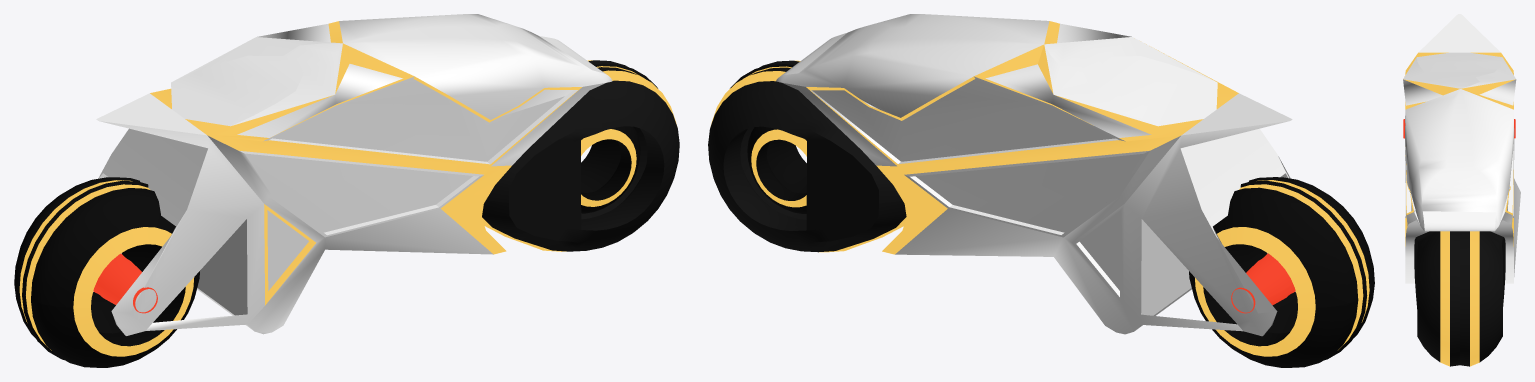
File: bike.glb
The picture shows the model from 3 angles, left to right: view 1: azimuth 30°, elevation 25°; view 2: azimuth 150°, elevation 25°; view 3: azimuth 270°, elevation 25°; orthographic projection. The views are drawn at different scales.
Visible parts, largest first — view 1: bike, front_wheel, rear_wheel, window; view 2: bike, front_wheel, rear_wheel, window; view 3: window, front_wheel, bike.
Part boxes in pixels (left/top/right/bottom): bike: left=96, top=21, right=606, bottom=335; front_wheel: left=482, top=60, right=679, bottom=251; rear_wheel: left=14, top=177, right=199, bottom=367; window: left=339, top=14, right=612, bottom=119; bike: left=780, top=21, right=1292, bottom=336; front_wheel: left=708, top=60, right=906, bottom=252; rear_wheel: left=1189, top=177, right=1374, bottom=367; window: left=776, top=14, right=1049, bottom=117; window: left=1405, top=89, right=1513, bottom=230; front_wheel: left=1414, top=231, right=1505, bottom=366; bike: left=1403, top=14, right=1520, bottom=283.
Bounding box in the file's own units: 12.41 × 4.75 × 2.71.
